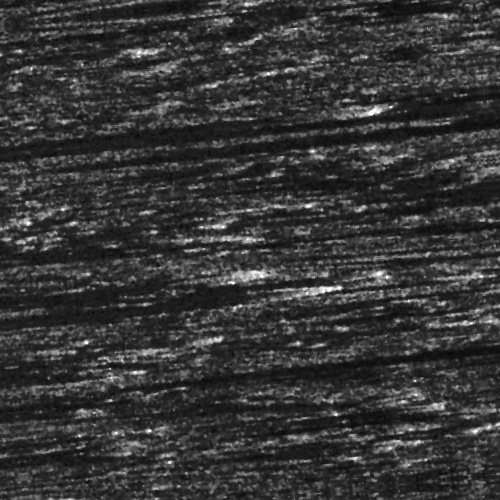object: (228, 284, 363, 303), (178, 226, 261, 239), (298, 115, 391, 124), (188, 265, 229, 280), (389, 337, 472, 344), (0, 198, 33, 209), (210, 15, 251, 20), (487, 127, 500, 134)
shadow: (36, 365, 500, 378), (0, 284, 295, 303), (0, 127, 500, 134), (0, 265, 208, 280), (0, 115, 344, 124), (0, 226, 219, 239), (67, 144, 500, 147), (292, 337, 430, 344), (157, 15, 230, 20), (482, 336, 500, 341)
